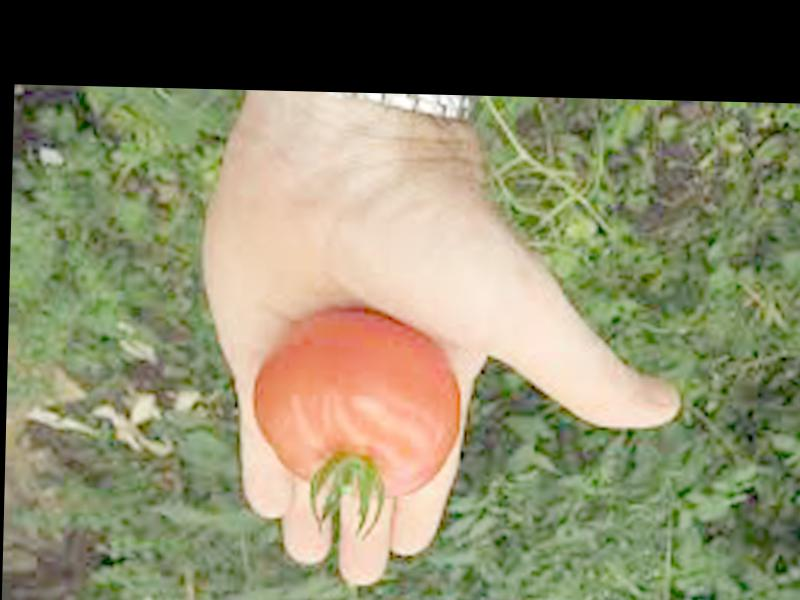Tomato: (248, 309, 465, 496)
